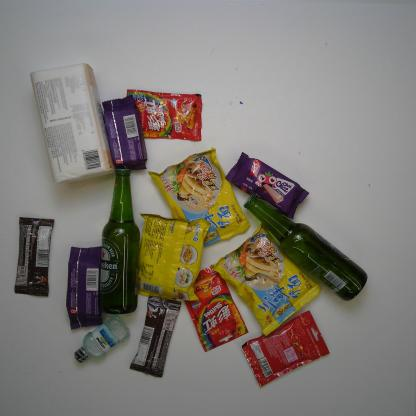Alcohol: (244, 192, 369, 302), (96, 165, 141, 313)
Candy: (241, 309, 330, 387), (180, 264, 247, 351), (124, 83, 206, 141)
Chocolate: (130, 294, 182, 379), (9, 216, 56, 300)
Dessert: (224, 150, 309, 218), (100, 93, 150, 174), (67, 242, 106, 329)
Instant Noodles: (219, 228, 326, 336), (146, 147, 252, 250), (137, 213, 210, 303)
Personal Hygiene: (73, 315, 128, 362)
Tissue: (28, 62, 111, 186)
